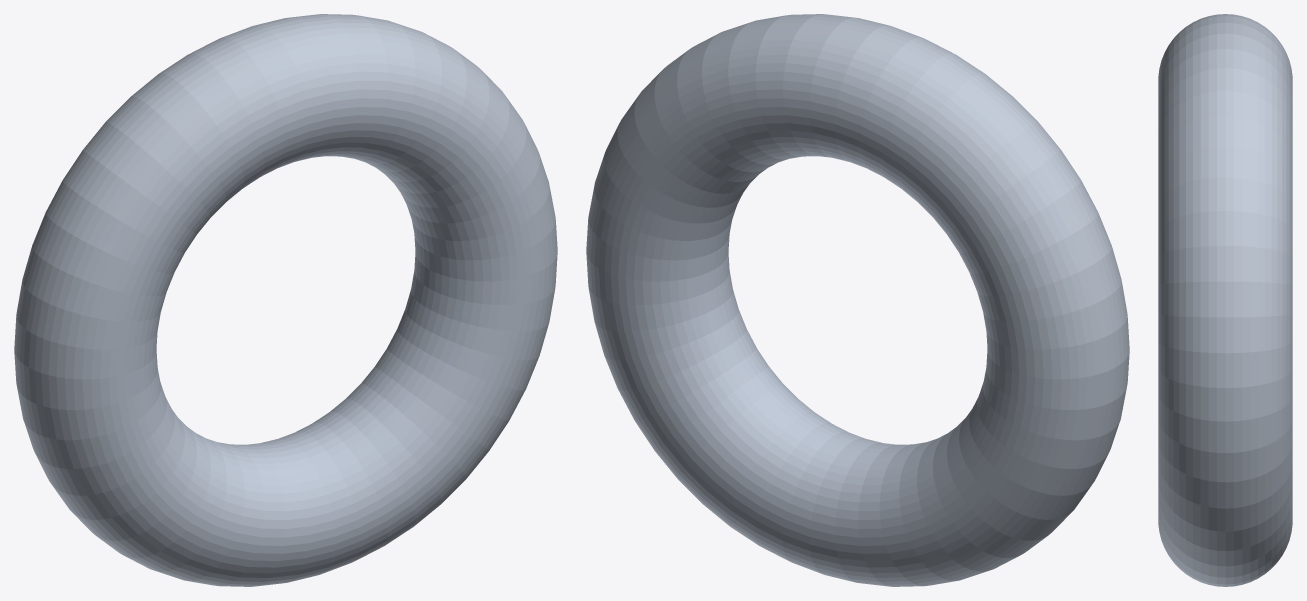
3 views of the same model, side by side, from view 1: azimuth 30°, elevation 25°; view 2: azimuth 150°, elevation 25°; view 3: azimuth 270°, elevation 25° (orthographic). The views are drawn at different scales.
Parts seen in each view (by area): view 1: world; view 2: world; view 3: world.
Boxes of the visible parts, <box> form: world: <box>14,14,557,586</box>; world: <box>586,14,1129,586</box>; world: <box>1158,14,1292,586</box>.
Bounding box in the file's own units: 24.4 × 24.35 × 5.72.
